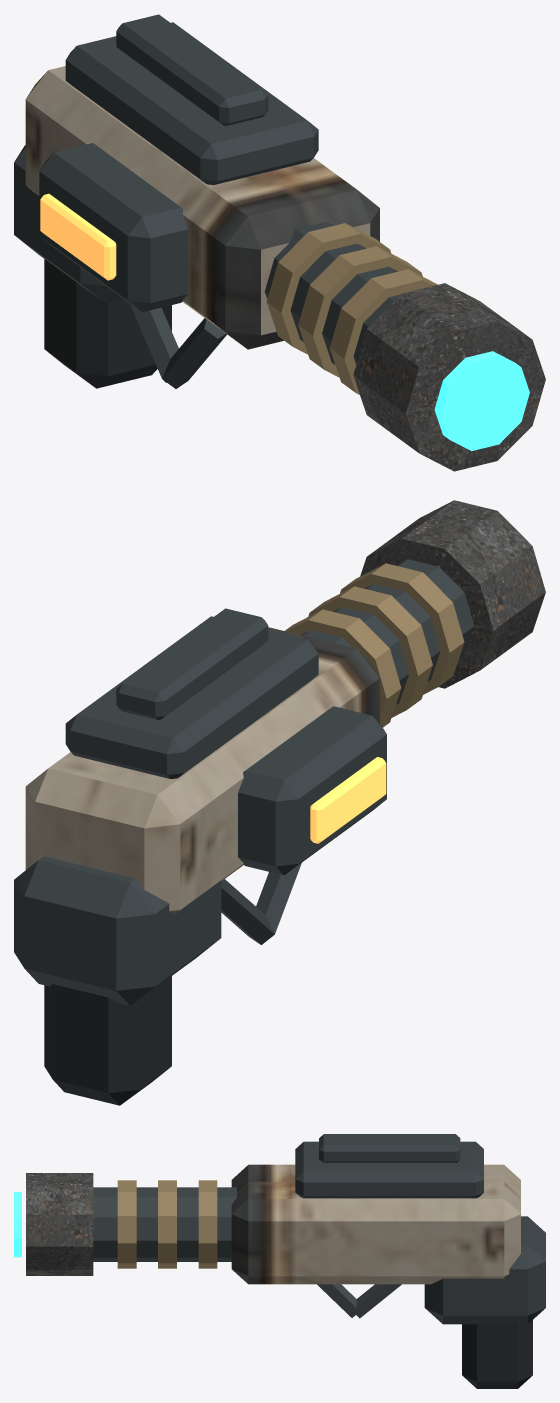
File: blaster.glb
The picture shows the model from 3 angles, top to bottom: view 1: azimuth 30°, elevation 25°; view 2: azimuth 150°, elevation 25°; view 3: azimuth 270°, elevation 25°; orthographic projection. The views are drawn at different scales.
Parts seen in each view (by area): view 1: Blaster | Blackened iron, Blaster | Salvaged ceramic alloy panels, Blaster | Forged stormsteel, Blaster | Old brass inlay, Blaster | Rubber and undersuit, Blaster | Cyan optics, Blaster | Buried amber cells; view 2: Blaster | Blackened iron, Blaster | Salvaged ceramic alloy panels, Blaster | Forged stormsteel, Blaster | Rubber and undersuit, Blaster | Old brass inlay, Blaster | Buried amber cells; view 3: Blaster | Salvaged ceramic alloy panels, Blaster | Blackened iron, Blaster | Forged stormsteel, Blaster | Old brass inlay, Blaster | Rubber and undersuit, Blaster | Cyan optics.
Part boxes in pixels (x1,y1,x2,y2): Blaster | Blackened iron: (14,14,400,388); Blaster | Salvaged ceramic alloy panels: (25,66,379,349); Blaster | Forged stormsteel: (353,283,545,471); Blaster | Old brass inlay: (266,223,437,394); Blaster | Rubber and undersuit: (44,259,171,388); Blaster | Cyan optics: (434,351,529,451); Blaster | Buried amber cells: (40,193,116,280); Blaster | Blackened iron: (14,559,474,1006); Blaster | Salvaged ceramic alloy panels: (25,627,379,915); Blaster | Forged stormsteel: (360,500,545,688); Blaster | Rubber and undersuit: (44,976,171,1105); Blaster | Old brass inlay: (285,563,464,727); Blaster | Buried amber cells: (310,757,386,843); Blaster | Salvaged ceramic alloy panels: (231,1164,520,1284); Blaster | Blackened iron: (93,1134,545,1324); Blaster | Forged stormsteel: (26,1173,93,1275); Blaster | Old brass inlay: (117,1180,217,1268); Blaster | Rubber and undersuit: (462,1320,532,1388); Blaster | Cyan optics: (14,1192,21,1257).
Bounding box in the file's own units: 0.24 × 0.394 × 0.79.
Materials: 7 (2 with a texture image).
